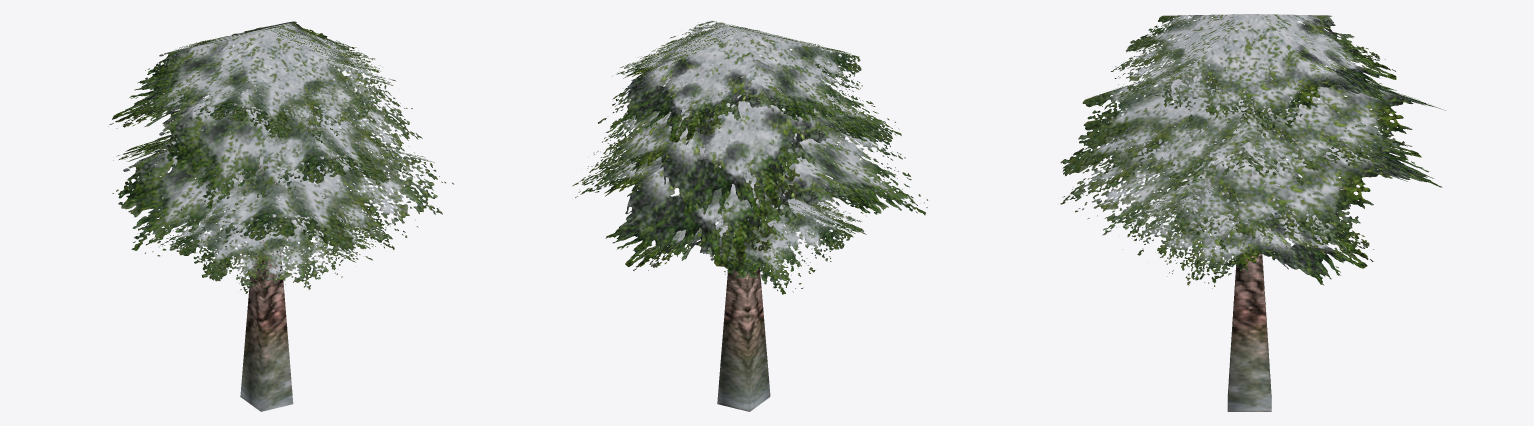
The model's file is tree8.dae.
3 renders of one model, left to right at view 1: azimuth 30°, elevation 25°; view 2: azimuth 150°, elevation 25°; view 3: azimuth 270°, elevation 25°, orthographic. The views are drawn at different scales.
Visible parts, largest first — view 1: Untitled; view 2: Untitled; view 3: Untitled.
Part boxes in pixels (left/top/right/bottom): Untitled: left=108, top=21, right=453, bottom=411; Untitled: left=572, top=21, right=927, bottom=411; Untitled: left=1060, top=14, right=1445, bottom=411.
Bounding box in the file's own units: 3.58 × 3.89 × 3.14.
Materials: 1 (1 with a texture image).
